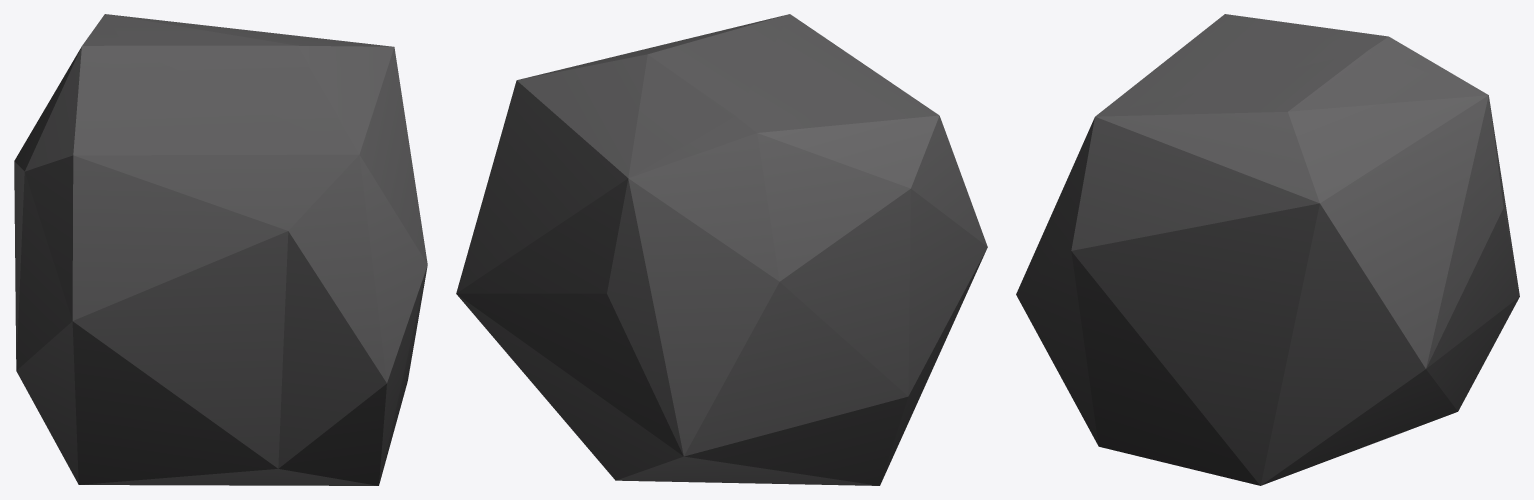
File: Rock_3.fbx
The picture shows the model from 3 angles, left to right: view 1: azimuth 30°, elevation 25°; view 2: azimuth 150°, elevation 25°; view 3: azimuth 270°, elevation 25°; orthographic projection. The views are drawn at different scales.
Visible parts, largest first — view 1: Rock_3; view 2: Rock_3; view 3: Rock_3.
Boxes of the visible parts, box(x1,y1,x2,y2) form: Rock_3: box(14, 14, 427, 485); Rock_3: box(456, 14, 987, 485); Rock_3: box(1016, 14, 1519, 485).
Bounding box in the file's own units: 119 × 109 × 137.
